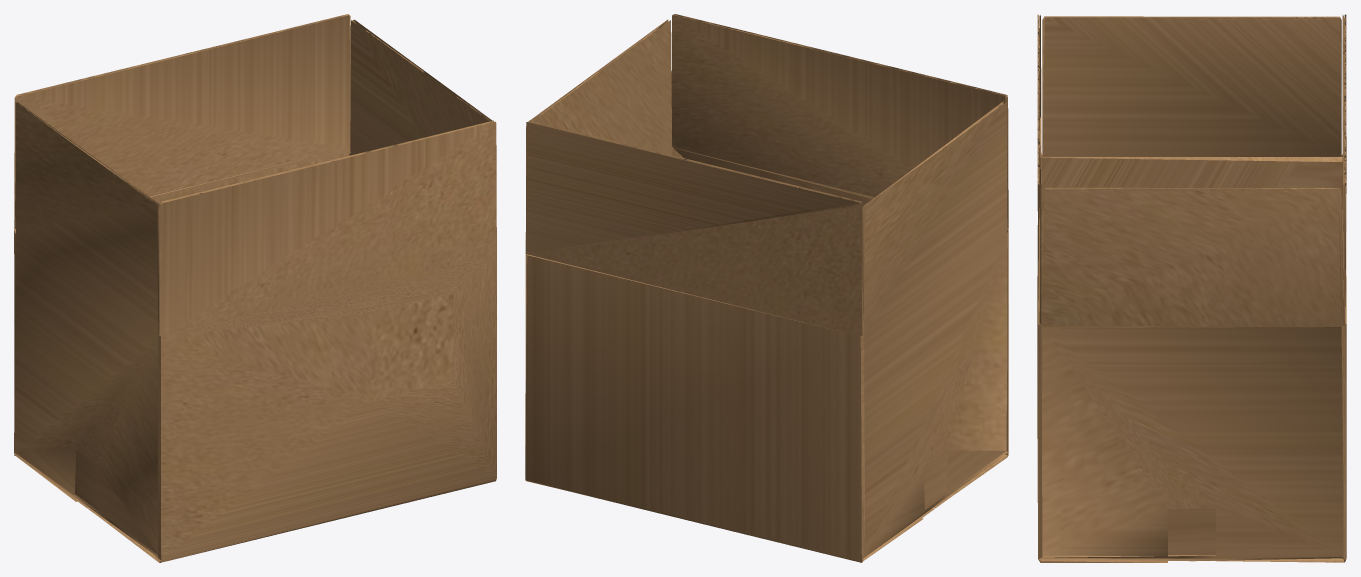
File: simready-box-shipping.ee9df37b.glb
The picture shows the model from 3 angles, left to right: view 1: azimuth 30°, elevation 25°; view 2: azimuth 150°, elevation 25°; view 3: azimuth 270°, elevation 25°; orthographic projection. The views are drawn at different scales.
Parts seen in each view (by area): view 1: model; view 2: model; view 3: model.
Part boxes in pixels (x1,y1,x2,y2): model: (14, 14, 496, 562); model: (525, 14, 1008, 562); model: (1037, 14, 1346, 562).
Size of the model in its own units: 0.408 by 0.4157 by 0.308.
3 materials, 3 textured.
